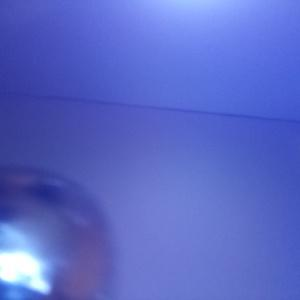alive_ball: (1, 166, 115, 300)
